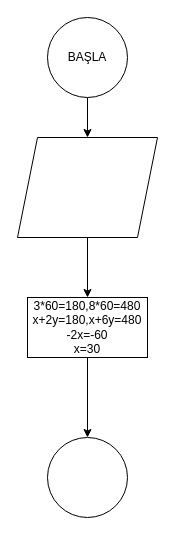
The diagram is 175 pixels wide and 535 high, and some of its shapes have lost their labels. The centre of each missing label's shape, as x and y in pixels:
"3 dakika sonra B den 3.kez 8 dakika sonra B den 7.kez geçiyor" goes at pixel 87 187.
"DUR" goes at pixel 87 477.
